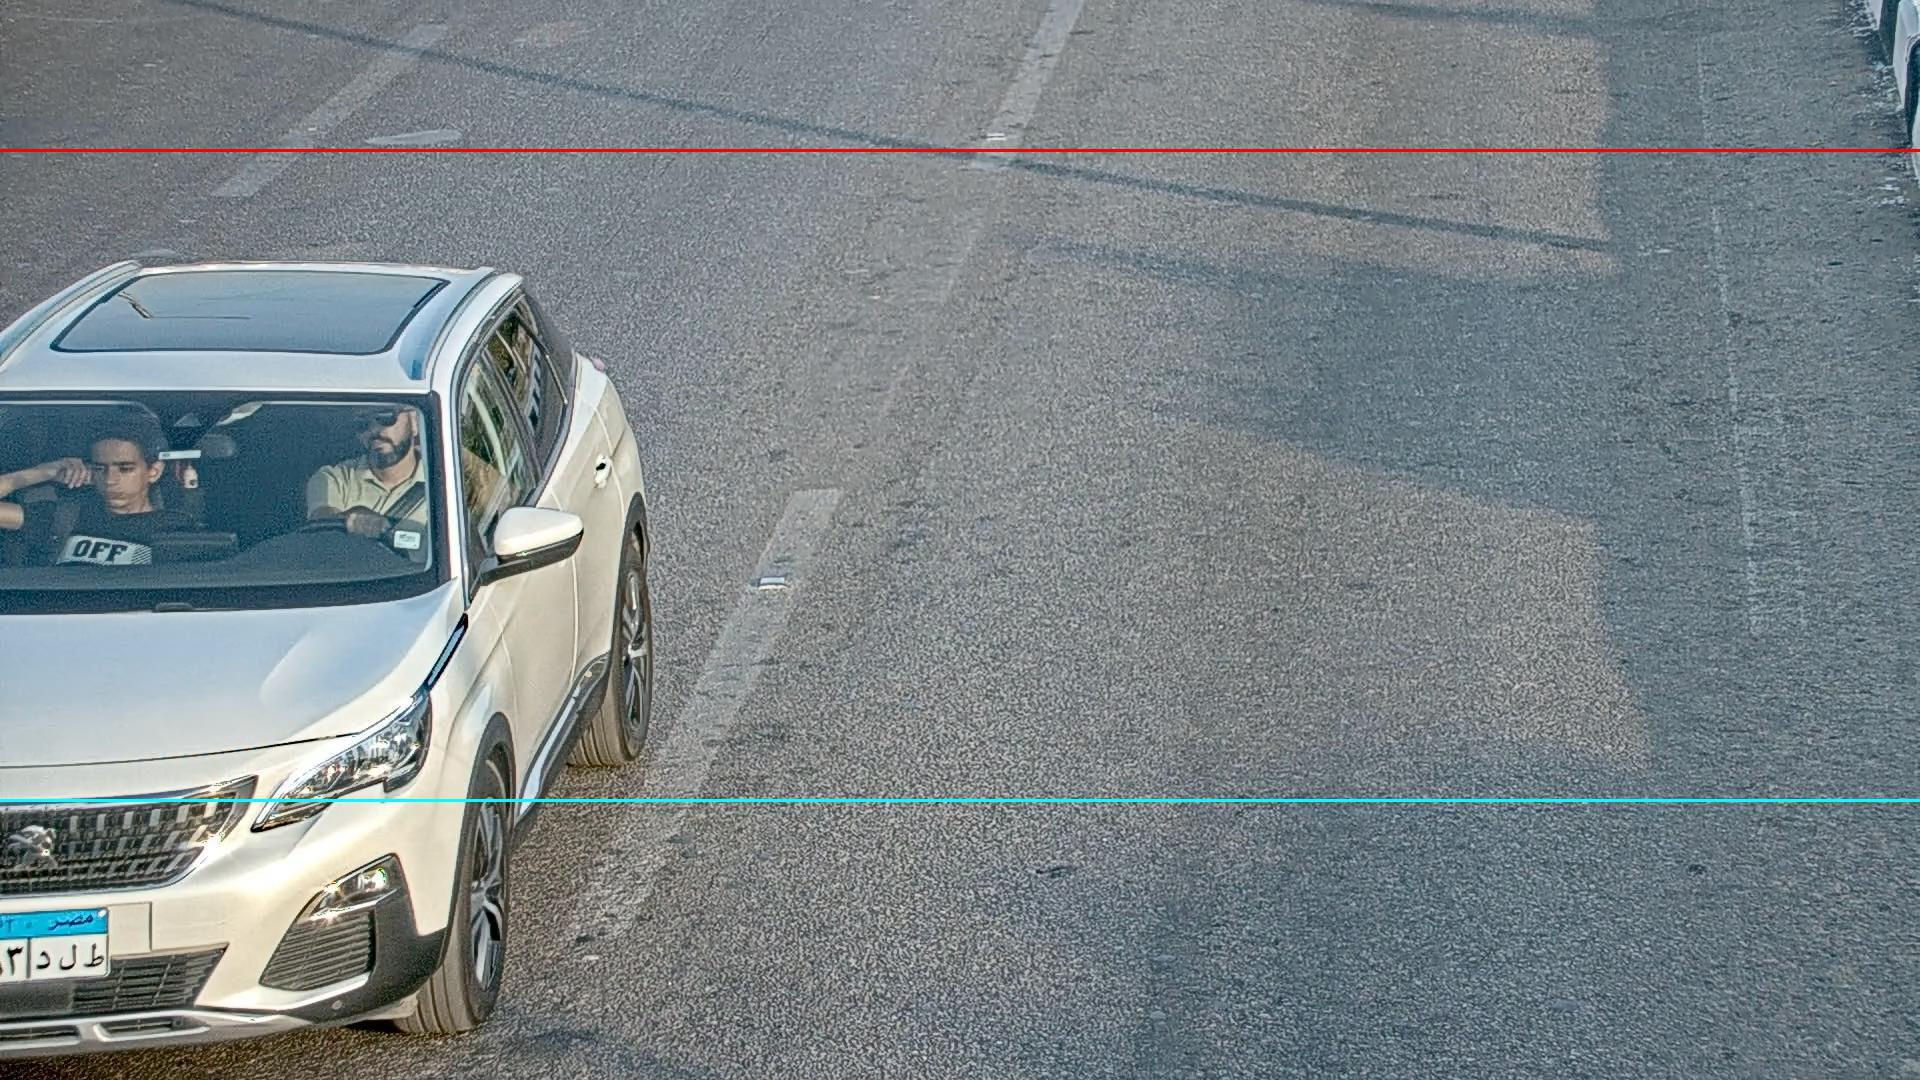windshield: (0, 380, 458, 613)
